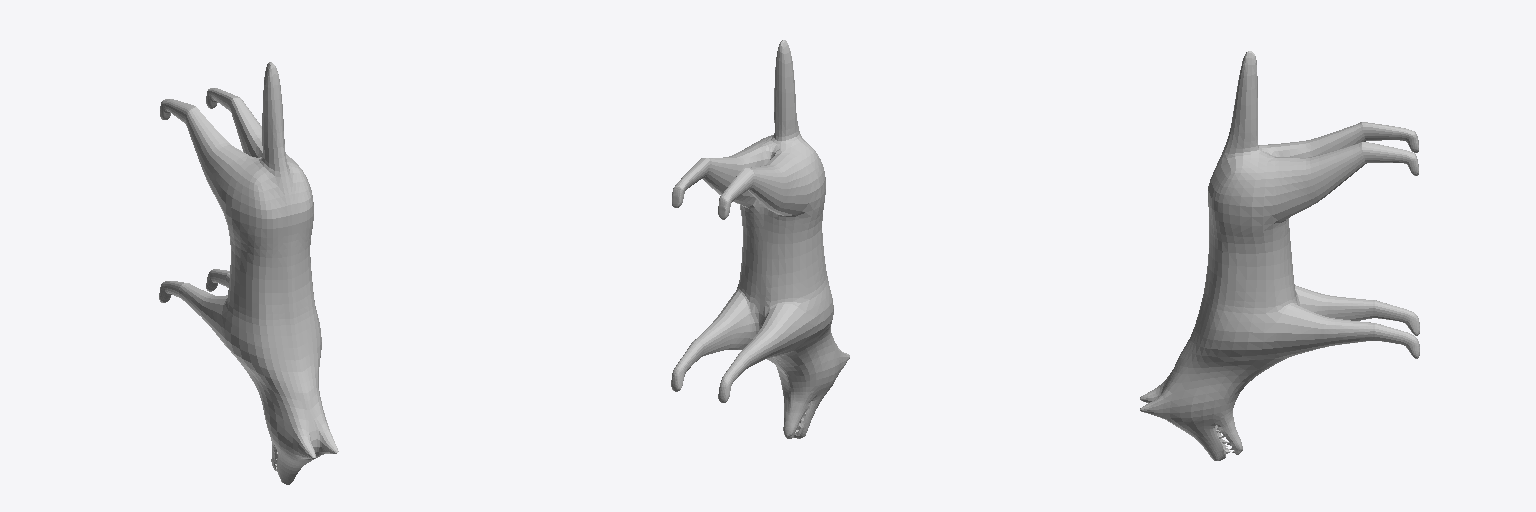
The model's file is Wolf.obj.
3 renders of one model, left to right at view 1: azimuth 30°, elevation 25°; view 2: azimuth 150°, elevation 25°; view 3: azimuth 270°, elevation 25°, orthographic.
Parts seen in each view (by area): view 1: Wolf.002; view 2: Wolf.002; view 3: Wolf.002.
Part boxes in pixels (bbox=[...]): Wolf.002: bbox=[159, 62, 338, 484]; Wolf.002: bbox=[671, 40, 849, 438]; Wolf.002: bbox=[1140, 51, 1419, 460].
Size of the model in its own units: 0.4795 by 2.31 by 1.43.